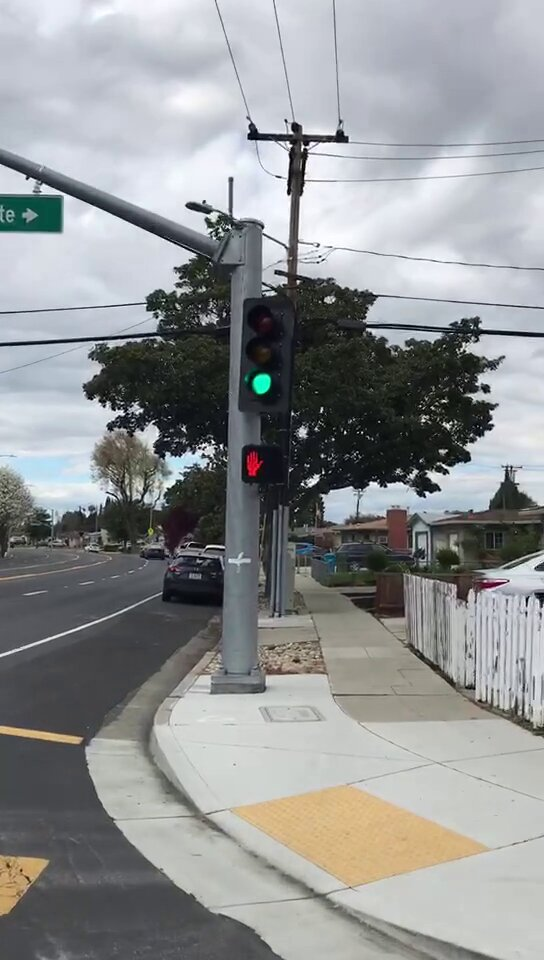green_light: (242, 298, 287, 412)
